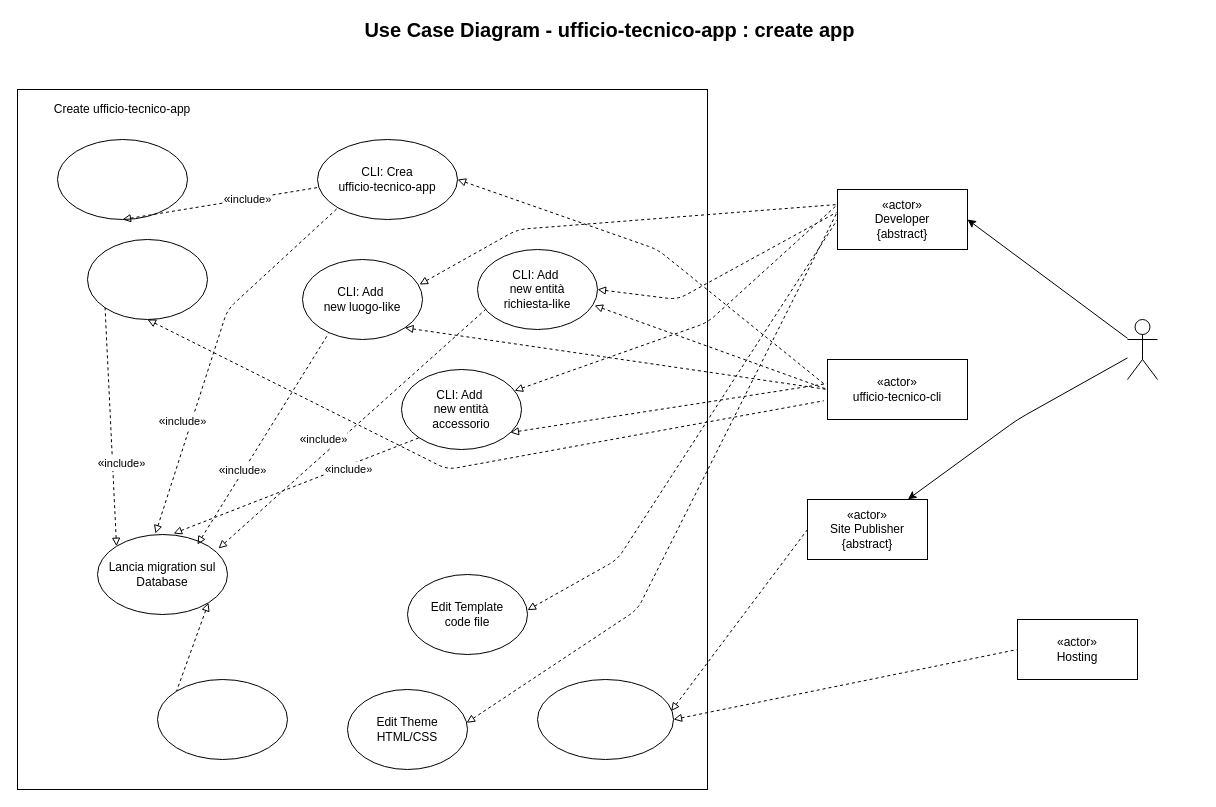
The diagram is 1216 pixels wide and 807 high, and some of its shapes have lost their labels. Here are the shapes that lost their labels. From the top down, the box of each, then its label:
(56, 138, 188, 220): Git clone repo ufficio-tecnico-app
(86, 238, 208, 320): CLI: Add new soggetto-like
(1126, 318, 1158, 380): Developer / Designer
(156, 678, 288, 760): Add/remove Entity/ies copy and past
(536, 678, 674, 760): Publish ufficio-tecnico-noiapp
